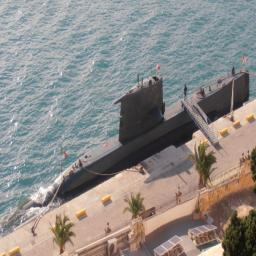submarine: (21, 61, 251, 216)
